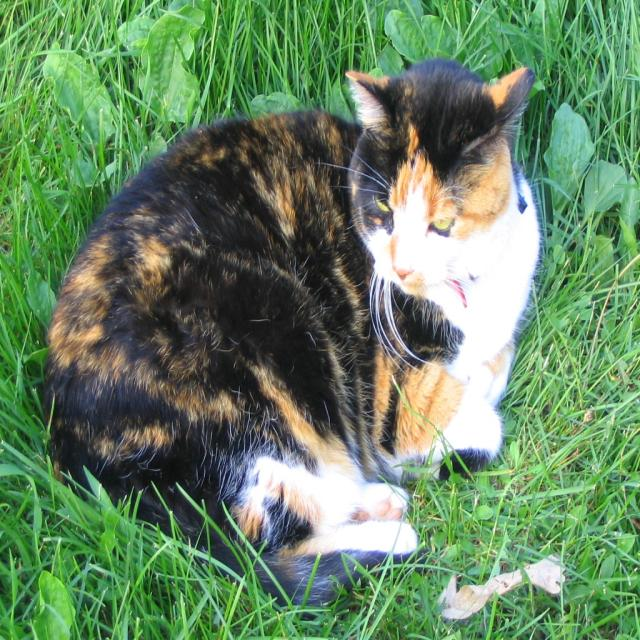Cat: (32, 49, 546, 612)
